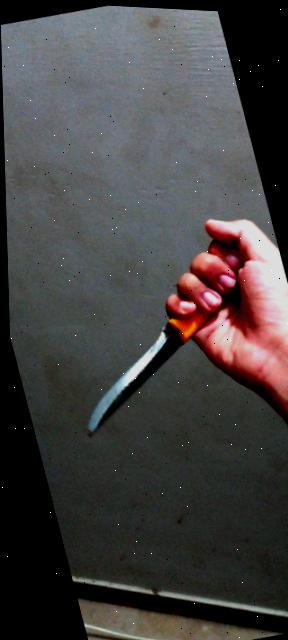long knife: (36, 215, 280, 450)
